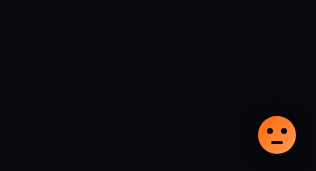
Test: Robot Fix List — FE1/FE2/FE3/F3 › FE2 — a failed fetch shows a retry state, not the old project's list
Click the button with test id "ora-guide-mascot-avatar" at (277, 135), box [258,116,296,154]
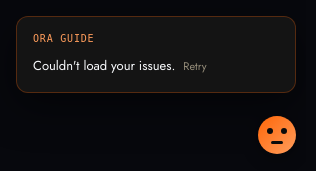
Expected: the button with test id "ora-guide-fixlist-retry" is shown, [179,54,211,78]
